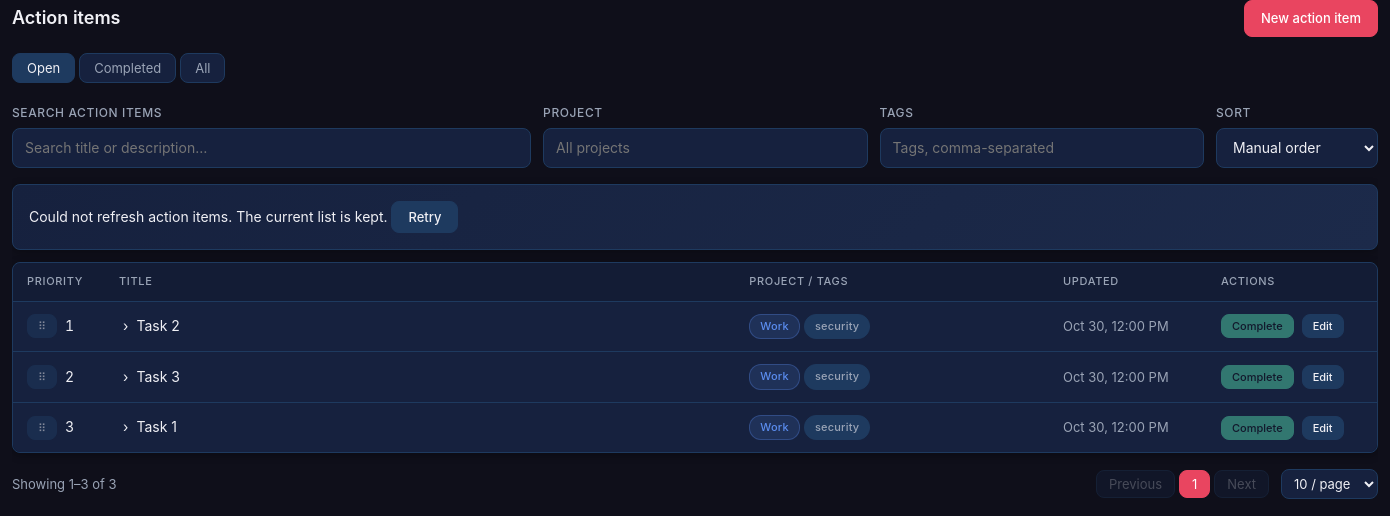
Test: ActionItemsIndexPage › retains populated rows after a failed move reread and blocks stale completion until Retry succeeds
This screenshot has width=1390, height=516.
Expected: the button "› Task 1" is shown, [119,414,181,441]
Expected: the message shows "The current list is kept.", [29,208,388,225]
Click the button "Retry": x=425, y=217 [392,201,458,233]
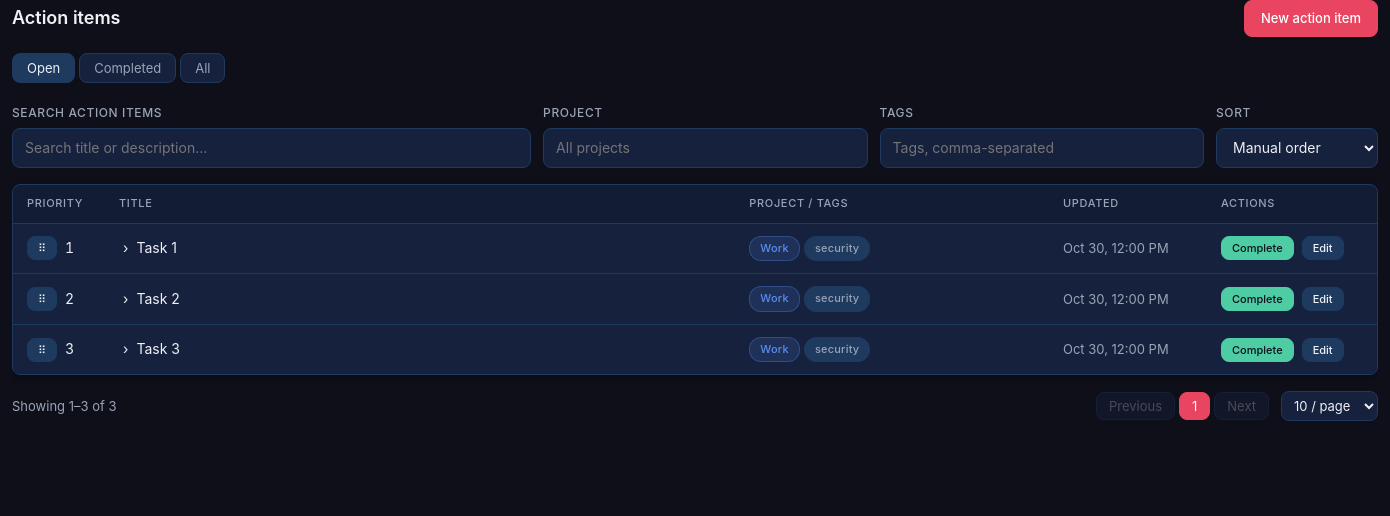
Expected: the button with aria-label "Complete Task 1" is enabled, [1221,236,1294,260]
